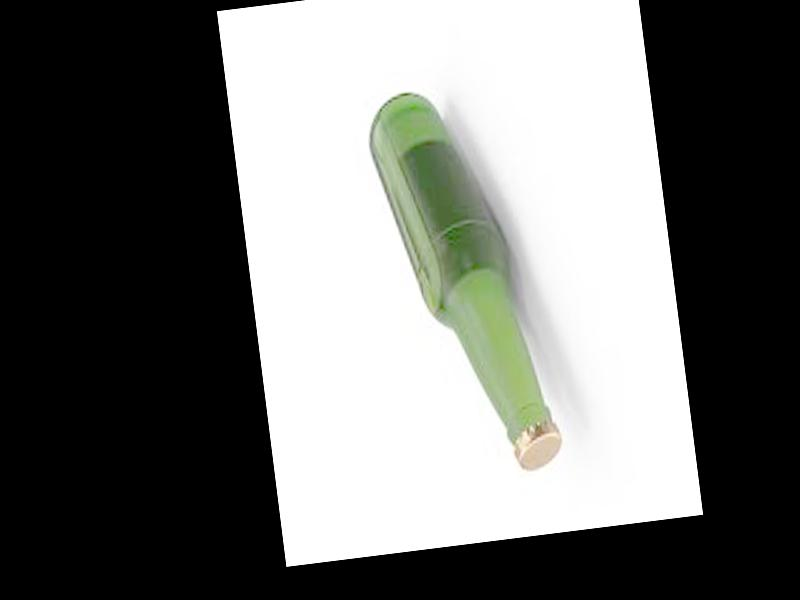Beer: (363, 78, 566, 488)
